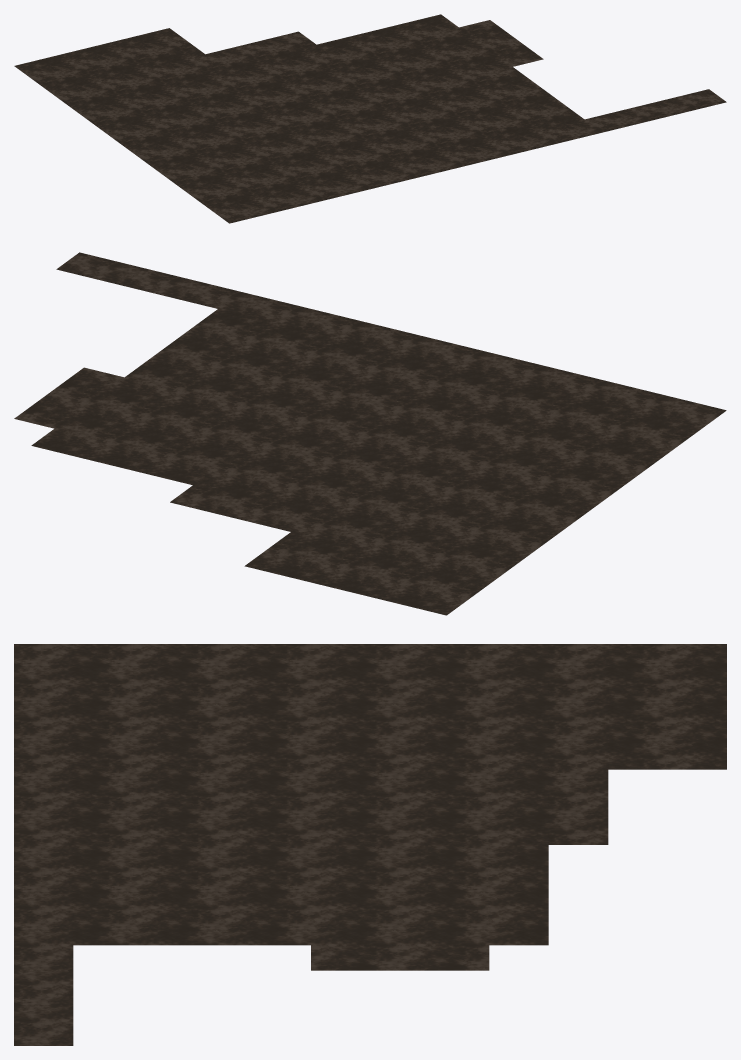
Rendered from floor_1_-12.glb.
The picture shows the model from 3 angles, top to bottom: view 1: azimuth 30°, elevation 25°; view 2: azimuth 150°, elevation 25°; view 3: azimuth 270°, elevation 25°; orthographic projection. The views are drawn at different scales.
Parts seen in each view (by area): view 1: floor_1_-12; view 2: floor_1_-12; view 3: floor_1_-12.
Part boxes in pixels (bbox=[...]): floor_1_-12: bbox=[14, 14, 726, 223]; floor_1_-12: bbox=[14, 252, 726, 615]; floor_1_-12: bbox=[14, 644, 726, 1045].
Size of the model in its own units: 64 by 0 by 48.
Materials: 1 (1 with a texture image).
